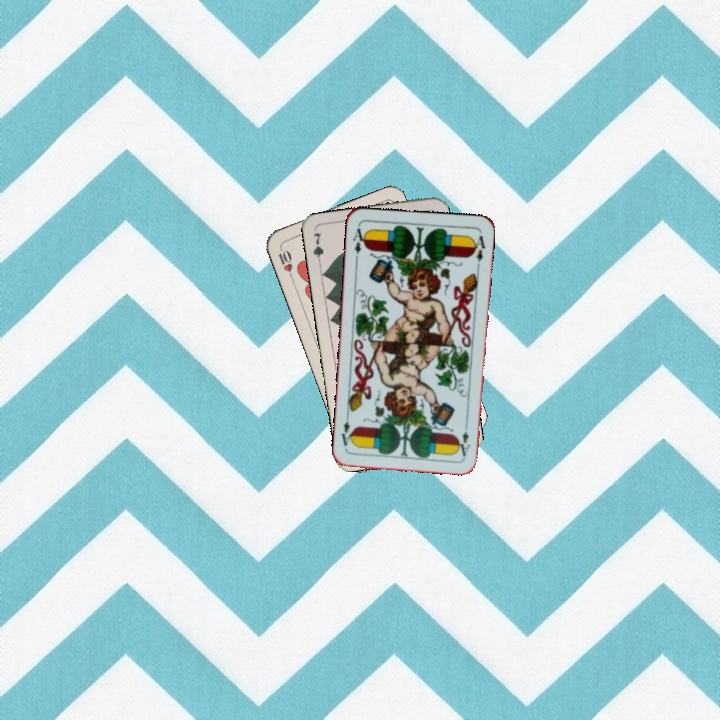EA: (349, 223, 369, 263), (457, 427, 473, 459)
G7: (309, 228, 326, 269)
H10: (274, 242, 296, 281)
